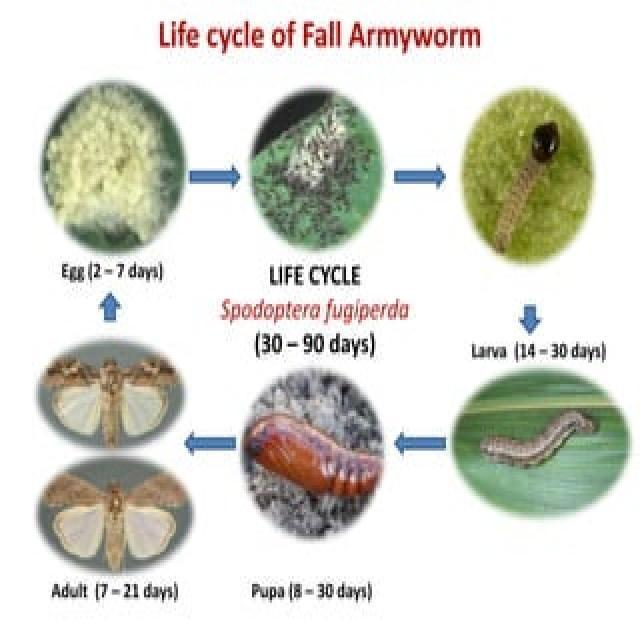army worm: (461, 387, 615, 472)
